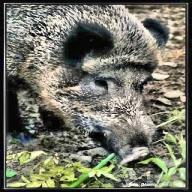boar: (5, 3, 169, 167)
